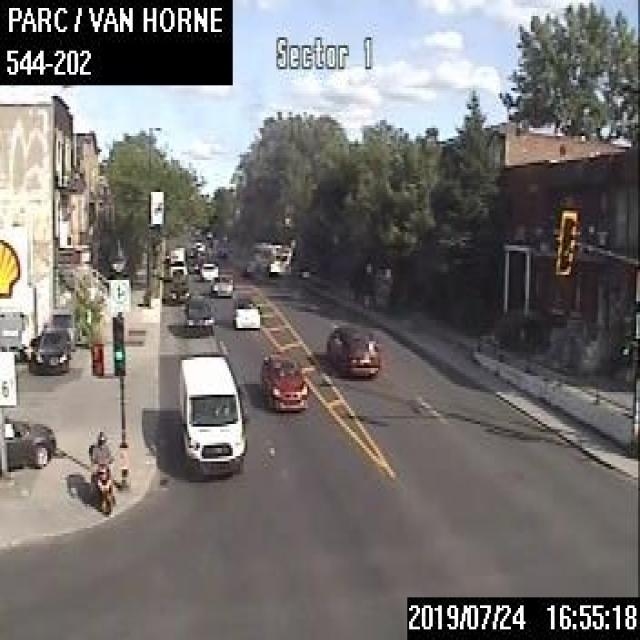bus: (249, 239, 291, 275)
vehicle: (175, 352, 248, 477), (0, 270, 47, 356), (3, 414, 55, 468), (324, 323, 376, 376), (260, 352, 305, 411), (88, 429, 116, 513), (29, 325, 71, 371), (42, 307, 76, 348), (180, 296, 212, 334), (231, 294, 260, 326), (166, 243, 186, 274), (168, 274, 189, 300), (210, 273, 232, 296), (198, 260, 218, 280)
